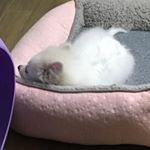puppy: (16, 26, 149, 91)
